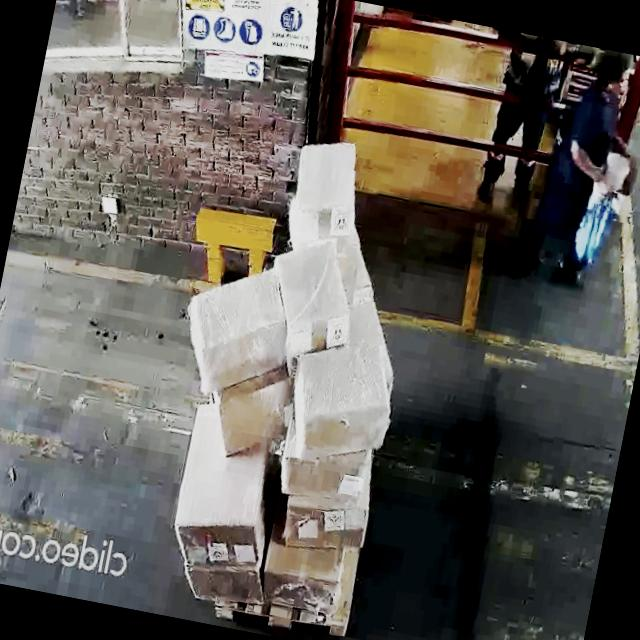Box: (282, 332, 404, 476), (168, 439, 272, 574), (180, 268, 293, 392), (280, 228, 362, 348), (210, 360, 296, 466), (286, 130, 368, 238), (254, 537, 344, 621), (276, 488, 370, 566), (275, 442, 371, 508), (180, 556, 264, 612)
